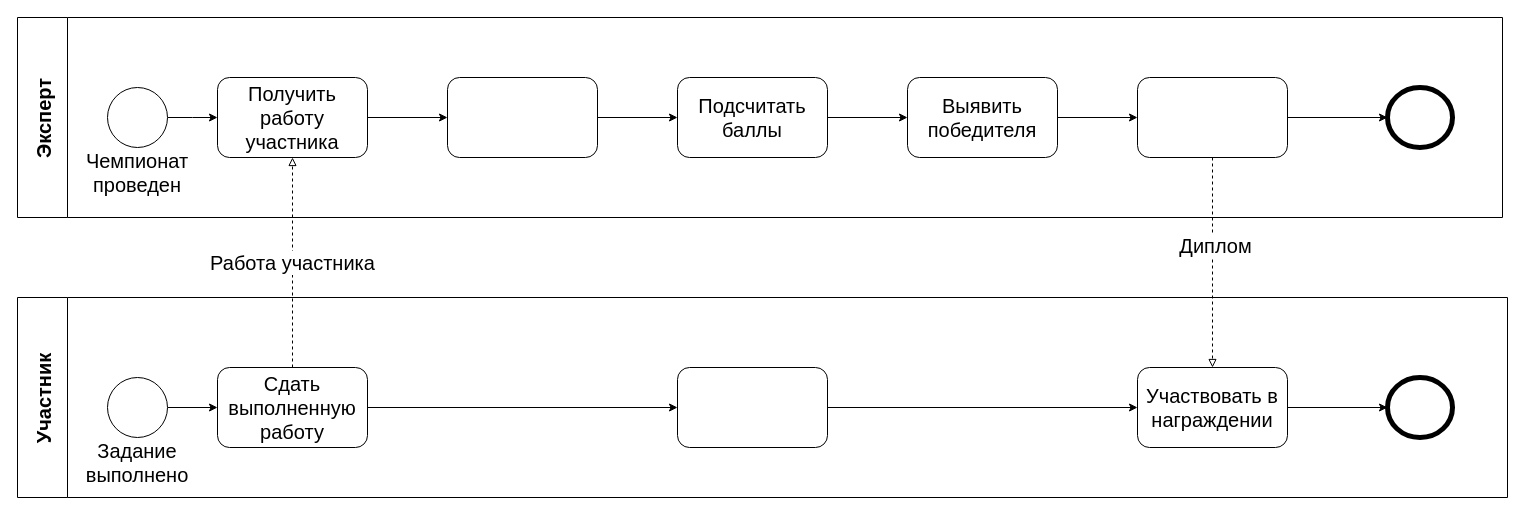
This 1525x515 diagram has some shape labels left out. Each missing label, with the centre of its shape:
Наградить победителя: pixel 1212 117
Ожидать результаты: pixel 752 407
Проверить работу: pixel 522 117
